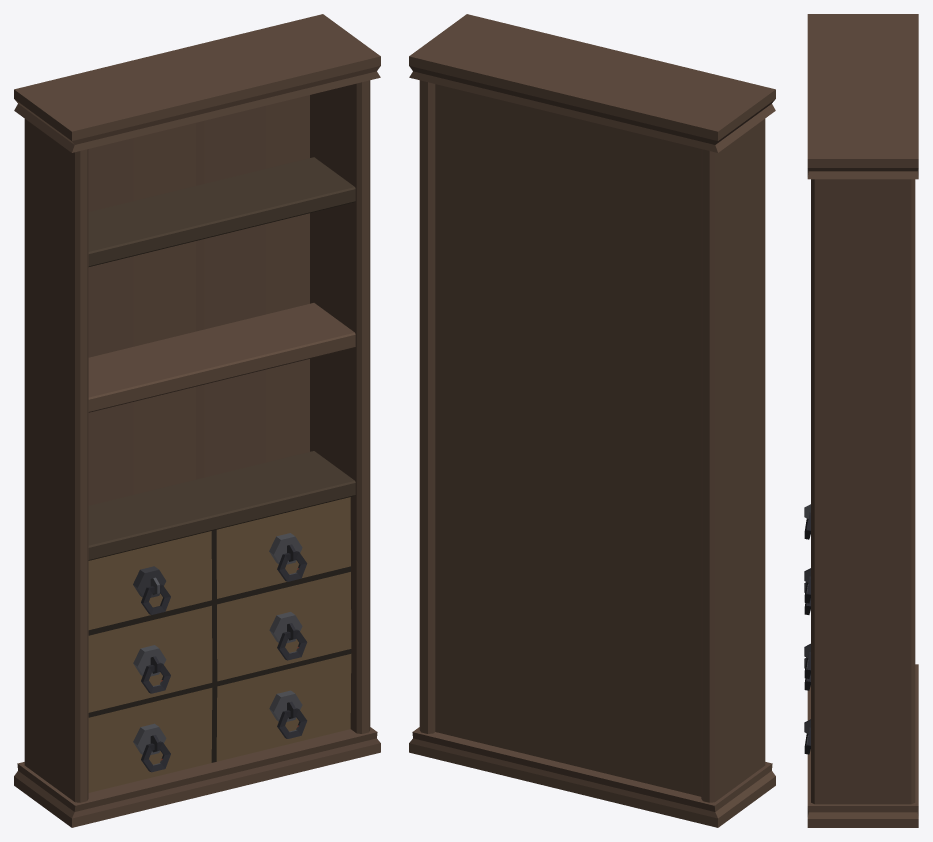
File: Cupboard_2.fbx
3 renders of one model, left to right at view 1: azimuth 30°, elevation 25°; view 2: azimuth 150°, elevation 25°; view 3: azimuth 270°, elevation 25°, orthographic. The views are drawn at different scales.
Visible parts, largest first — view 1: polySurface1942; view 2: polySurface1942; view 3: polySurface1942.
Part boxes in pixels (x1,y1,x2,y2): polySurface1942: (14,14,380,827); polySurface1942: (409,14,775,827); polySurface1942: (804,14,918,827).
Size of the model in its own units: 165 by 354 by 54.93.
